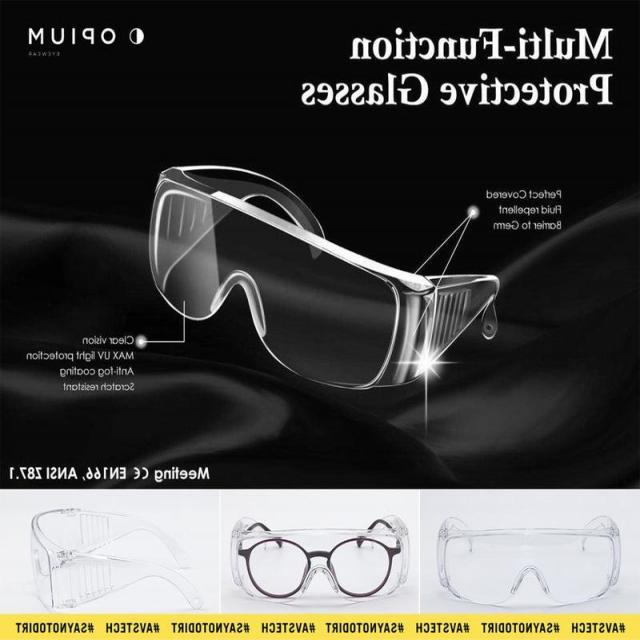Goggles: (118, 136, 504, 399), (6, 497, 222, 612), (424, 494, 632, 611), (227, 497, 412, 609)
